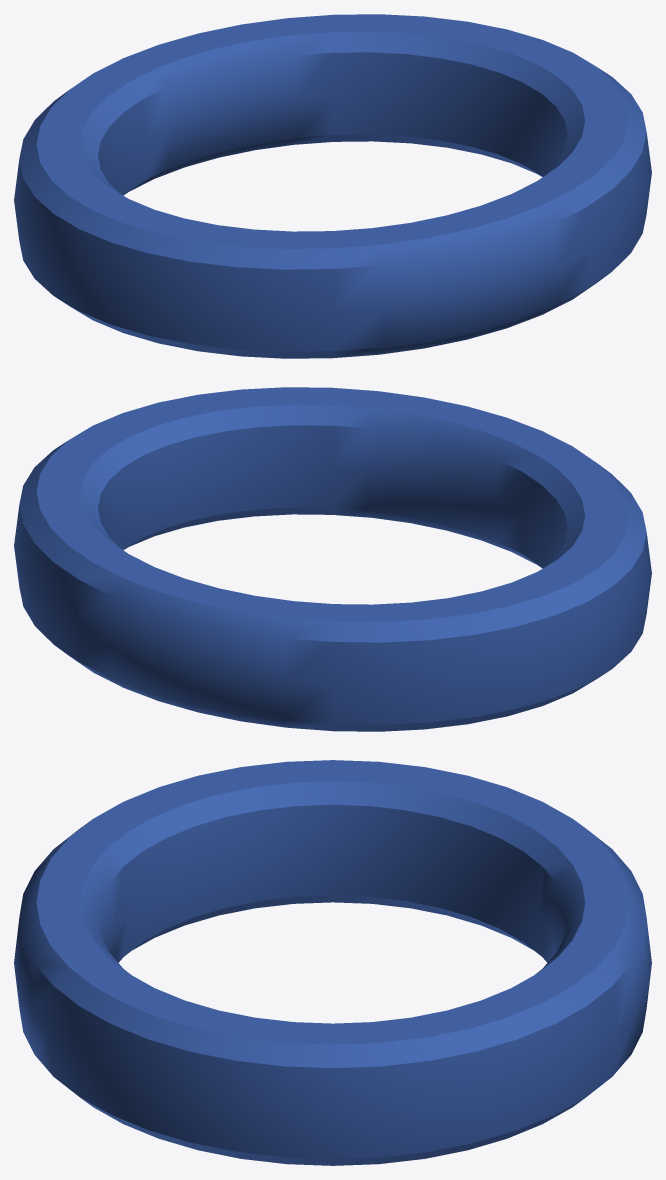
File: sig_sweatband.gltf
3 views of the same model, one above another, from view 1: azimuth 30°, elevation 25°; view 2: azimuth 150°, elevation 25°; view 3: azimuth 270°, elevation 25° (orthographic). The views are drawn at different scales.
Parts seen in each view (by area): view 1: sig_sweatband; view 2: sig_sweatband; view 3: sig_sweatband.
Part boxes in pixels (x1=…): sig_sweatband: x1=14, y1=14, x2=651, y2=358; sig_sweatband: x1=14, y1=387, x2=651, y2=731; sig_sweatband: x1=14, y1=760, x2=651, y2=1165.
Bounding box in the file's own units: 1 × 0.1844 × 0.88.
